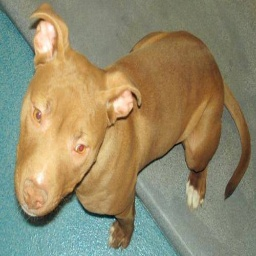dog: (16, 18, 245, 238)
